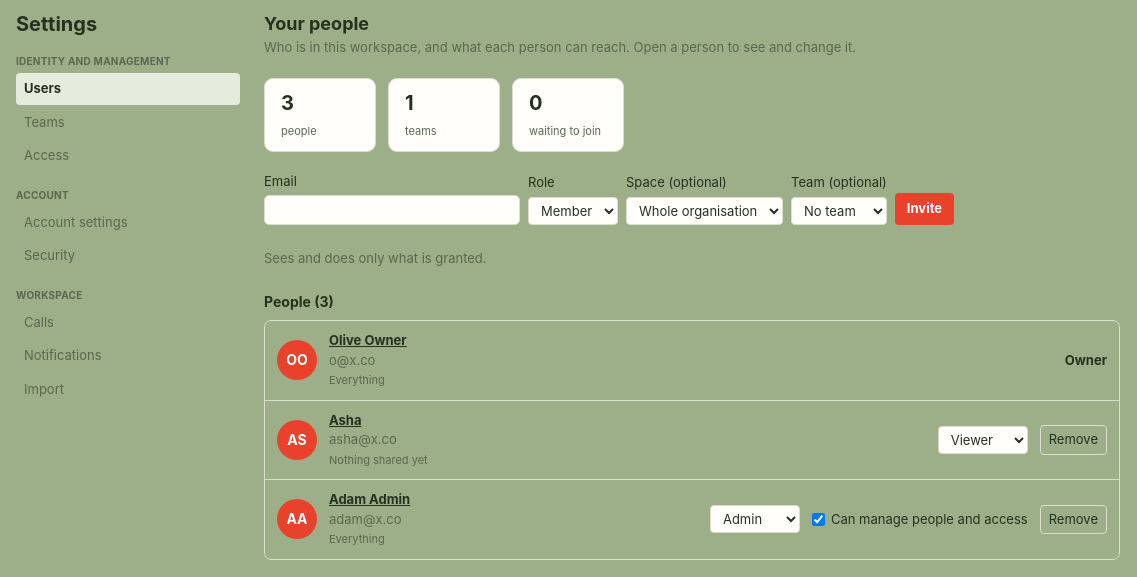
Scenario: Settings: users, teams and access › lets the owner change a role and an Admin's access to manage people, and nobody else
Select "Viewer" in the dropdown named "Role of Asha": (983, 440) top-left (938, 426), bottom-right (1028, 454)
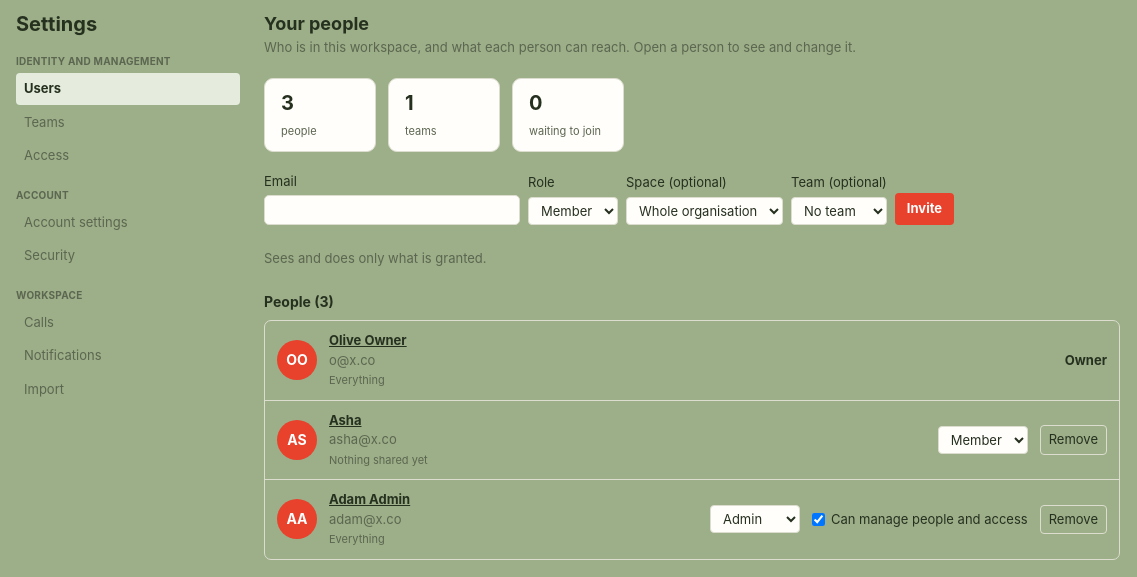
Click the checkbox labelled "Can manage people and access": click(818, 519) top-left (812, 513), bottom-right (825, 526)
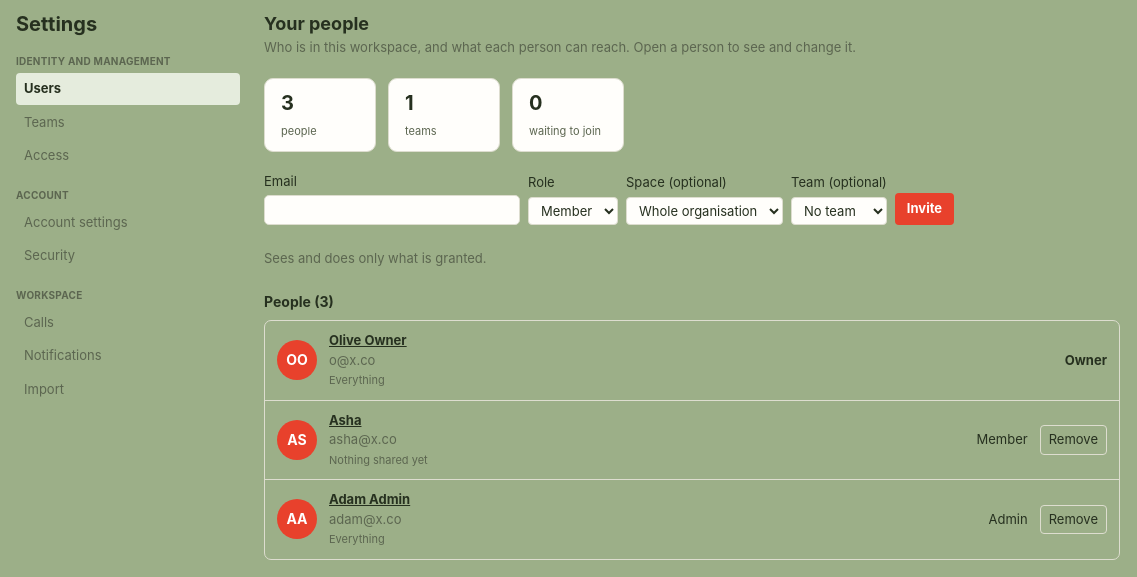
Result: the checkbox is gone
